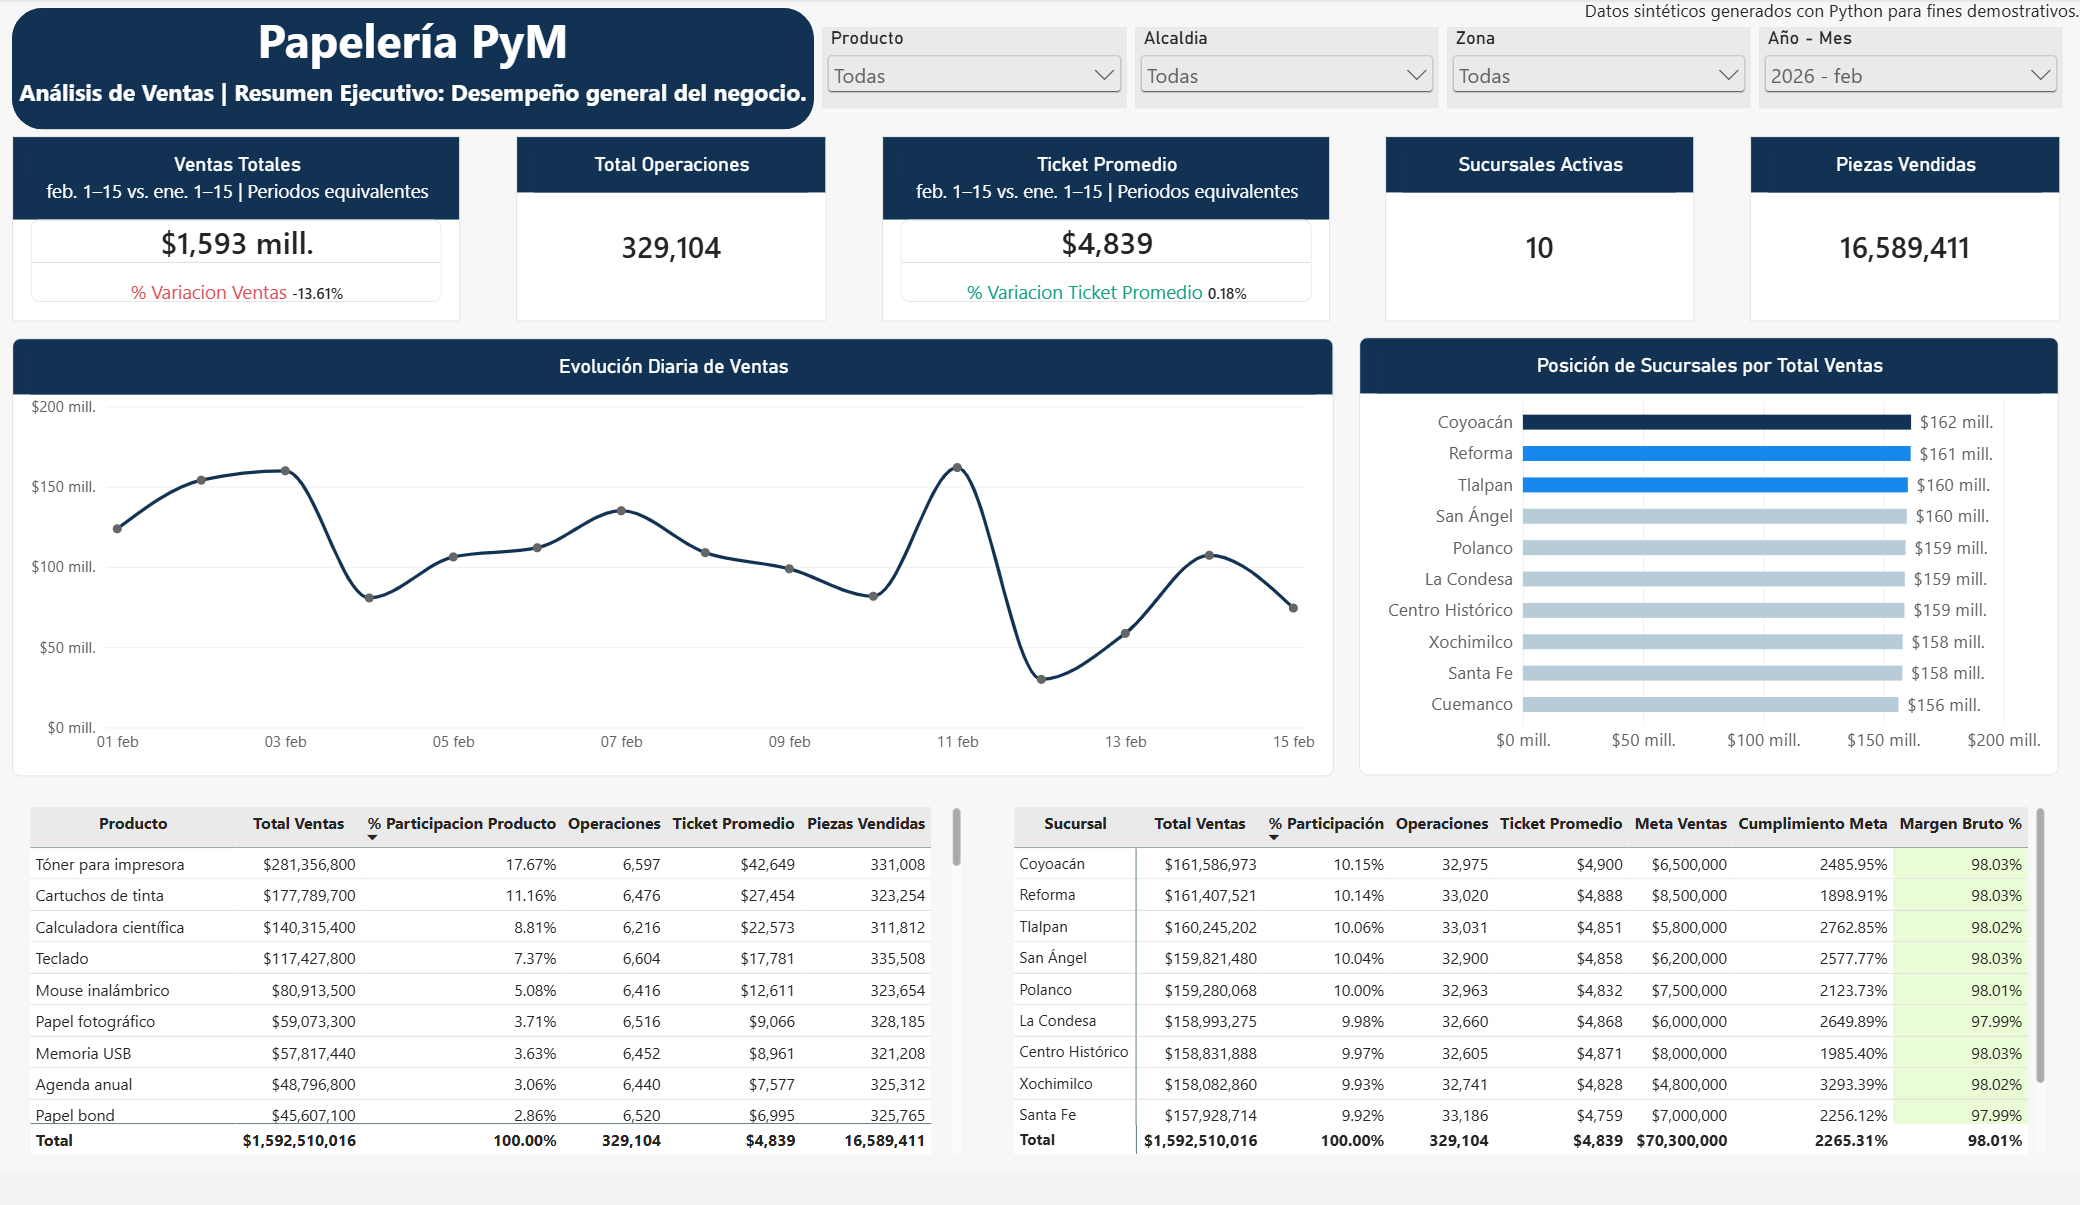

The dashboard page shown, as its layout file describes it:
{"tool":"powerbi","page":{"name":"Resumen Ejecutivo","canvas":[1920,1080],"ordinal":0},"visuals":[{"type":"cardVisual","title":"Ventas Totales","fields":{"Data":["Medidas DAX.01_Total Ventas"]},"box":[14.4,126.1,413.4,170.8],"z":0},{"type":"shape","box":[14.4,8,739,111.7],"z":1000},{"type":"card","title":"Total Operaciones","fields":{"Values":["Medidas DAX.Operaciones"]},"box":[479.1,126.1,285.7,170.8],"z":2000},{"type":"card","title":"Sucursales Activas","fields":{"Values":["Medidas DAX.04_Sucursales Activas"]},"box":[1280.4,126.1,285,170.8],"z":3000},{"type":"textbox","box":[14.4,19.2,739,100.5],"z":4000},{"type":"slicer","fields":{"Values":["DimFecha.Mes_Anio"]},"box":[1625,25.5,280.1,74.9],"z":5000},{"type":"slicer","fields":{"Values":["Cat_Sucursales.Alcaldia"]},"box":[1049.7,25.5,280.1,74.9],"z":6000},{"type":"slicer","fields":{"Values":["Consol_Ventas.ColProducto"]},"box":[761.3,25.5,280.9,75],"z":7000},{"type":"lineChart","title":"Evolución Diaria de Ventas","fields":{"Category":["DimFecha.Fecha"],"Y":["Medidas DAX.01_Ingresos Totales"]},"box":[14.4,312,1217.8,403.8],"z":8000},{"type":"clusteredBarChart","title":"Posición de Sucursales por Total Ventas","fields":{"Category":["Cat_Sucursales.ColSucursal"],"Y":["Medidas DAX.01_Total Ventas"]},"box":[1256.1,311.2,644.8,403.8],"z":9000},{"type":"tableEx","title":"Top 10 Productos más Vendidos","fields":{"Values":["Consol_Ventas.ColProducto","Medidas DAX.01_Total Ventas","Medidas DAX.% Participacion Producto","Medidas DAX.02_Total Operaciones","Medidas DAX.03_Ticket Promedio","Medidas DAX.07_Piezas Vendidas"]},"box":[14.4,730.5,890.6,349.5],"z":10000},{"type":"card","title":"Piezas Vendidas","fields":{"Values":["Medidas DAX.07_Unidades Vendidas"]},"box":[1616.8,126.1,285.7,170.8],"z":11000},{"type":"slicer","fields":{"Values":["Cat_Sucursales.Zona"]},"box":[1337.4,25.5,280.1,74.9],"z":12000},{"type":"pivotTable","title":"Piezas Vendidas por Sucursal","fields":{"Rows":["Cat_Sucursales.ColSucursal"],"Values":["Medidas DAX.01_Total Ventas","Medidas DAX.% Participacion Sucursal","Medidas DAX.02_Total Operaciones","Medidas DAX.03_Ticket Promedio","Medidas DAX.09_Meta Ventas","Medidas DAX.10_Cumplimiento Meta","Medidas DAX.13_Margen Bruto %"]},"box":[922.5,731,981.5,349.5],"z":13000},{"type":"cardVisual","title":"Ticket Promedio","fields":{"Data":["Medidas DAX.03_Ticket Promedio"]},"box":[816.1,126.1,413,170.8],"z":14000},{"type":"textbox","box":[1413.8,0,506.2,25.5],"z":15000}]}

Visuals, with their boxes in screenshot pixels (x1, y1, x2, y2), scaled from the page's 1920x1080 canvas onto the 2080x1205 screenshot:
"Ventas Totales" cardVisual: l=16, t=141, r=463, b=331
shape: l=16, t=9, r=816, b=134
"Total Operaciones" card: l=519, t=141, r=829, b=331
"Sucursales Activas" card: l=1387, t=141, r=1696, b=331
textbox: l=16, t=21, r=816, b=134
slicer - DimFecha.Mes_Anio: l=1760, t=28, r=2064, b=112
slicer - Cat_Sucursales.Alcaldia: l=1137, t=28, r=1441, b=112
slicer - Consol_Ventas.ColProducto: l=825, t=28, r=1129, b=112
"Evolución Diaria de Ventas" lineChart: l=16, t=348, r=1335, b=799
"Posición de Sucursales por Total Ventas" clusteredBarChart: l=1361, t=347, r=2059, b=798
"Top 10 Productos más Vendidos" tableEx: l=16, t=815, r=980, b=1204
"Piezas Vendidas" card: l=1752, t=141, r=2061, b=331
slicer - Cat_Sucursales.Zona: l=1449, t=28, r=1752, b=112
"Piezas Vendidas por Sucursal" pivotTable: l=999, t=816, r=2063, b=1204
"Ticket Promedio" cardVisual: l=884, t=141, r=1332, b=331
textbox: l=1532, t=0, r=2079, b=28
